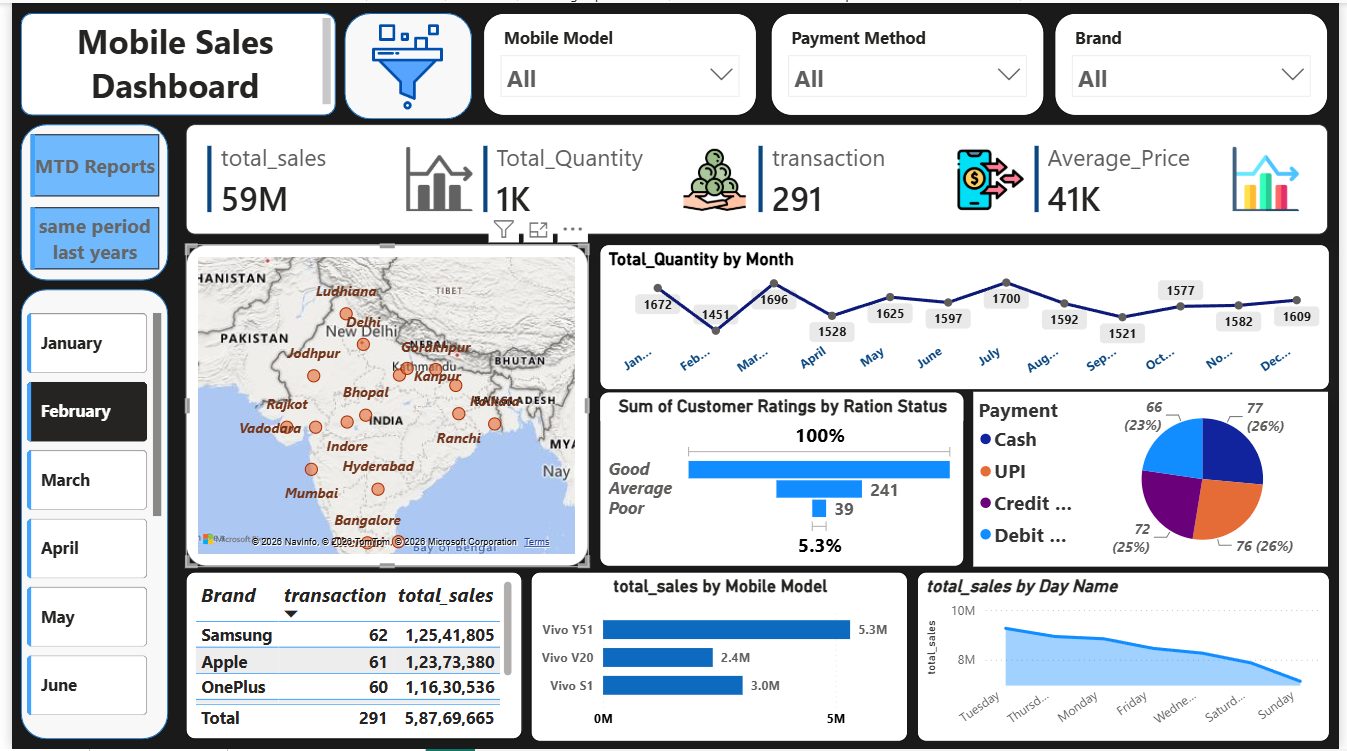

The dashboard page shown, as its layout file describes it:
{"tool":"powerbi","page":{"name":"Dashboard","canvas":[1280,720],"ordinal":0},"visuals":[{"type":"shape","box":[8.4,9.7,304,98.9],"z":0},{"type":"shape","box":[8.4,117,142.4,150.8],"z":1000},{"type":"shape","box":[8.4,276.3,142.4,434.3],"z":2000},{"type":"advancedSlicerVisual","fields":{"Values":["custom_calender.Date.Variation.Date Hierarchy.Month"]},"box":[9.7,294.4,139.9,398.1],"z":3000},{"type":"cardVisual","fields":{"Data":["mobile_sales_data.total_sales","mobile_sales_data.Total_Quantity","mobile_sales_data.transaction","mobile_sales_data.Average_Price"]},"box":[167.7,117,1102.7,106.2],"z":4000},{"type":"slicer","fields":{"Values":["mobile_sales_data.Payment Method"]},"box":[732.3,9.7,264.2,98.9],"z":5000},{"type":"slicer","fields":{"Values":["mobile_sales_data.Mobile Model"]},"box":[454.8,9.7,264.2,98.9],"z":6000},{"type":"slicer","fields":{"Values":["mobile_sales_data.Brand"]},"box":[1006.2,9.7,264.2,98.9],"z":7000},{"type":"shape","box":[320.9,9.7,123.1,102.5],"z":8000},{"type":"image","box":[324.5,19.3,114.6,84.5],"z":9000},{"type":"textbox","box":[10.9,9.7,301.6,94.1],"z":10000},{"type":"lineChart","fields":{"Category":["custom_calender.Date.Variation.Date Hierarchy.Month"],"Y":["mobile_sales_data.Total_Quantity"]},"box":[567,232.8,704.6,141.2],"z":11000},{"type":"funnel","fields":{"Y":["Sum(mobile_sales_data.Customer Ratings)"],"Category":["mobile_sales_data.Ration Status"]},"box":[567,375.2,352.3,168.9],"z":12000},{"type":"pieChart","fields":{"Category":["mobile_sales_data.Payment Method"],"Y":["mobile_sales_data.transaction"]},"box":[927.8,375.2,342.6,168.9],"z":13000},{"type":"barChart","fields":{"Y":["mobile_sales_data.total_sales"],"Category":["mobile_sales_data.Mobile Model"]},"box":[500.7,548.9,364.3,164.1],"z":14000},{"type":"areaChart","fields":{"Category":["custom_calender.Day Name"],"Y":["mobile_sales_data.total_sales"]},"box":[873.5,548.9,398.1,164.1],"z":15000},{"type":"tableEx","fields":{"Values":["mobile_sales_data.Brand","mobile_sales_data.transaction","mobile_sales_data.total_sales"]},"box":[167.7,548.9,324.5,161.7],"z":16000},{"type":"pageNavigator","box":[17.8,126.2,124.9,131.7],"z":17000},{"type":"map","fields":{"Category":["mobile_sales_data.City"]},"box":[167.7,232.8,388.5,311.3],"z":18000}]}

Visuals, with their boxes in screenshot pixels (x1, y1, x2, y2), scaled from the page's 1280x720 canvas onto the 1347x751 screenshot:
shape: <region>9, 10, 329, 113</region>
shape: <region>9, 122, 159, 279</region>
shape: <region>9, 288, 159, 741</region>
advancedSlicerVisual - custom_calender.Date.Variation.Date Hierarchy.Month: <region>10, 307, 157, 722</region>
cardVisual - mobile_sales_data.total_sales x mobile_sales_data.Total_Quantity: <region>176, 122, 1337, 233</region>
slicer - mobile_sales_data.Payment Method: <region>771, 10, 1049, 113</region>
slicer - mobile_sales_data.Mobile Model: <region>479, 10, 757, 113</region>
slicer - mobile_sales_data.Brand: <region>1059, 10, 1337, 113</region>
shape: <region>338, 10, 467, 117</region>
image: <region>341, 20, 462, 108</region>
textbox: <region>11, 10, 329, 108</region>
lineChart - custom_calender.Date.Variation.Date Hierarchy.Month x mobile_sales_data.Total_Quantity: <region>597, 243, 1338, 390</region>
funnel - Sum(mobile_sales_data.Customer Ratings) x mobile_sales_data.Ration Status: <region>597, 391, 967, 568</region>
pieChart - mobile_sales_data.Payment Method x mobile_sales_data.transaction: <region>976, 391, 1337, 568</region>
barChart - mobile_sales_data.total_sales x mobile_sales_data.Mobile Model: <region>527, 573, 910, 744</region>
areaChart - custom_calender.Day Name x mobile_sales_data.total_sales: <region>919, 573, 1338, 744</region>
tableEx - mobile_sales_data.Brand x mobile_sales_data.transaction: <region>176, 573, 518, 741</region>
pageNavigator: <region>19, 132, 150, 269</region>
map - mobile_sales_data.City: <region>176, 243, 585, 568</region>
